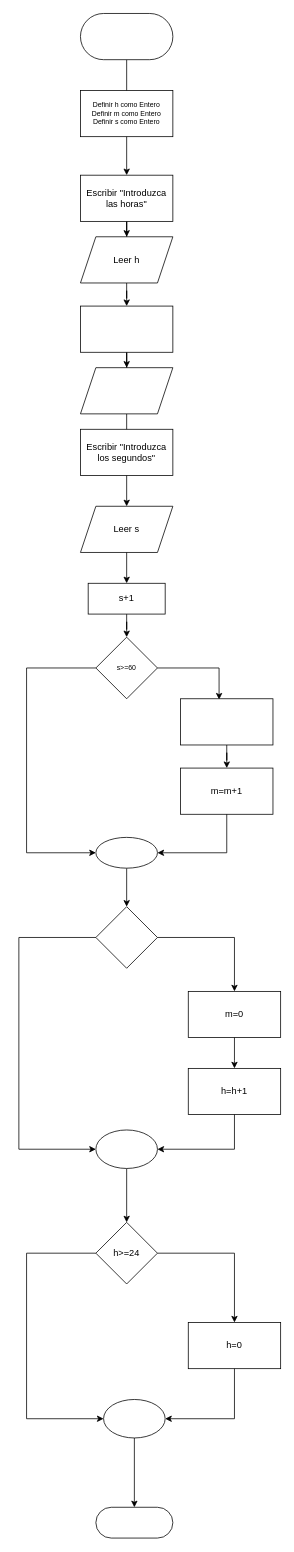
Image size: 294x1552. Some labels were removed from this diagram. The shapes that lost their labels are listed below. From the top down, each one's centre as x and y in pixels, then its label:
the point at 126,36: Inicio
the point at 126,328: Escribir "Introduzca los minutos"
the point at 126,390: Leer m
the point at 226,721: s=0
the point at 126,937: m>=60
the point at 134,1522: fin
